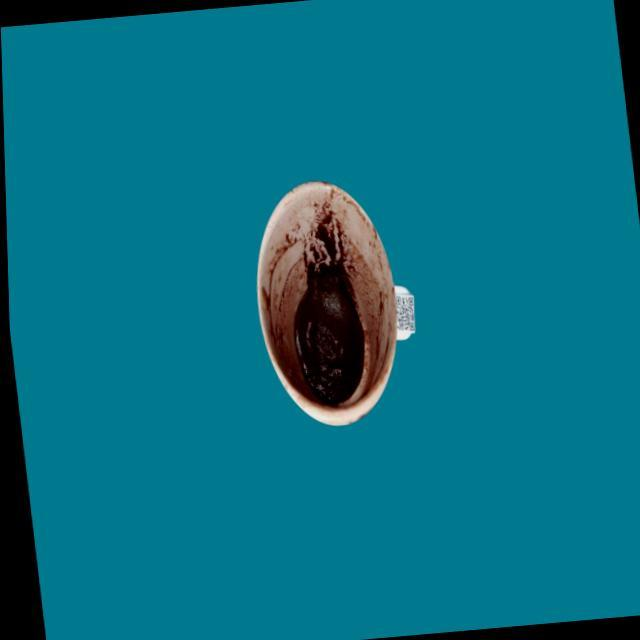cup: (240, 168, 428, 434)
